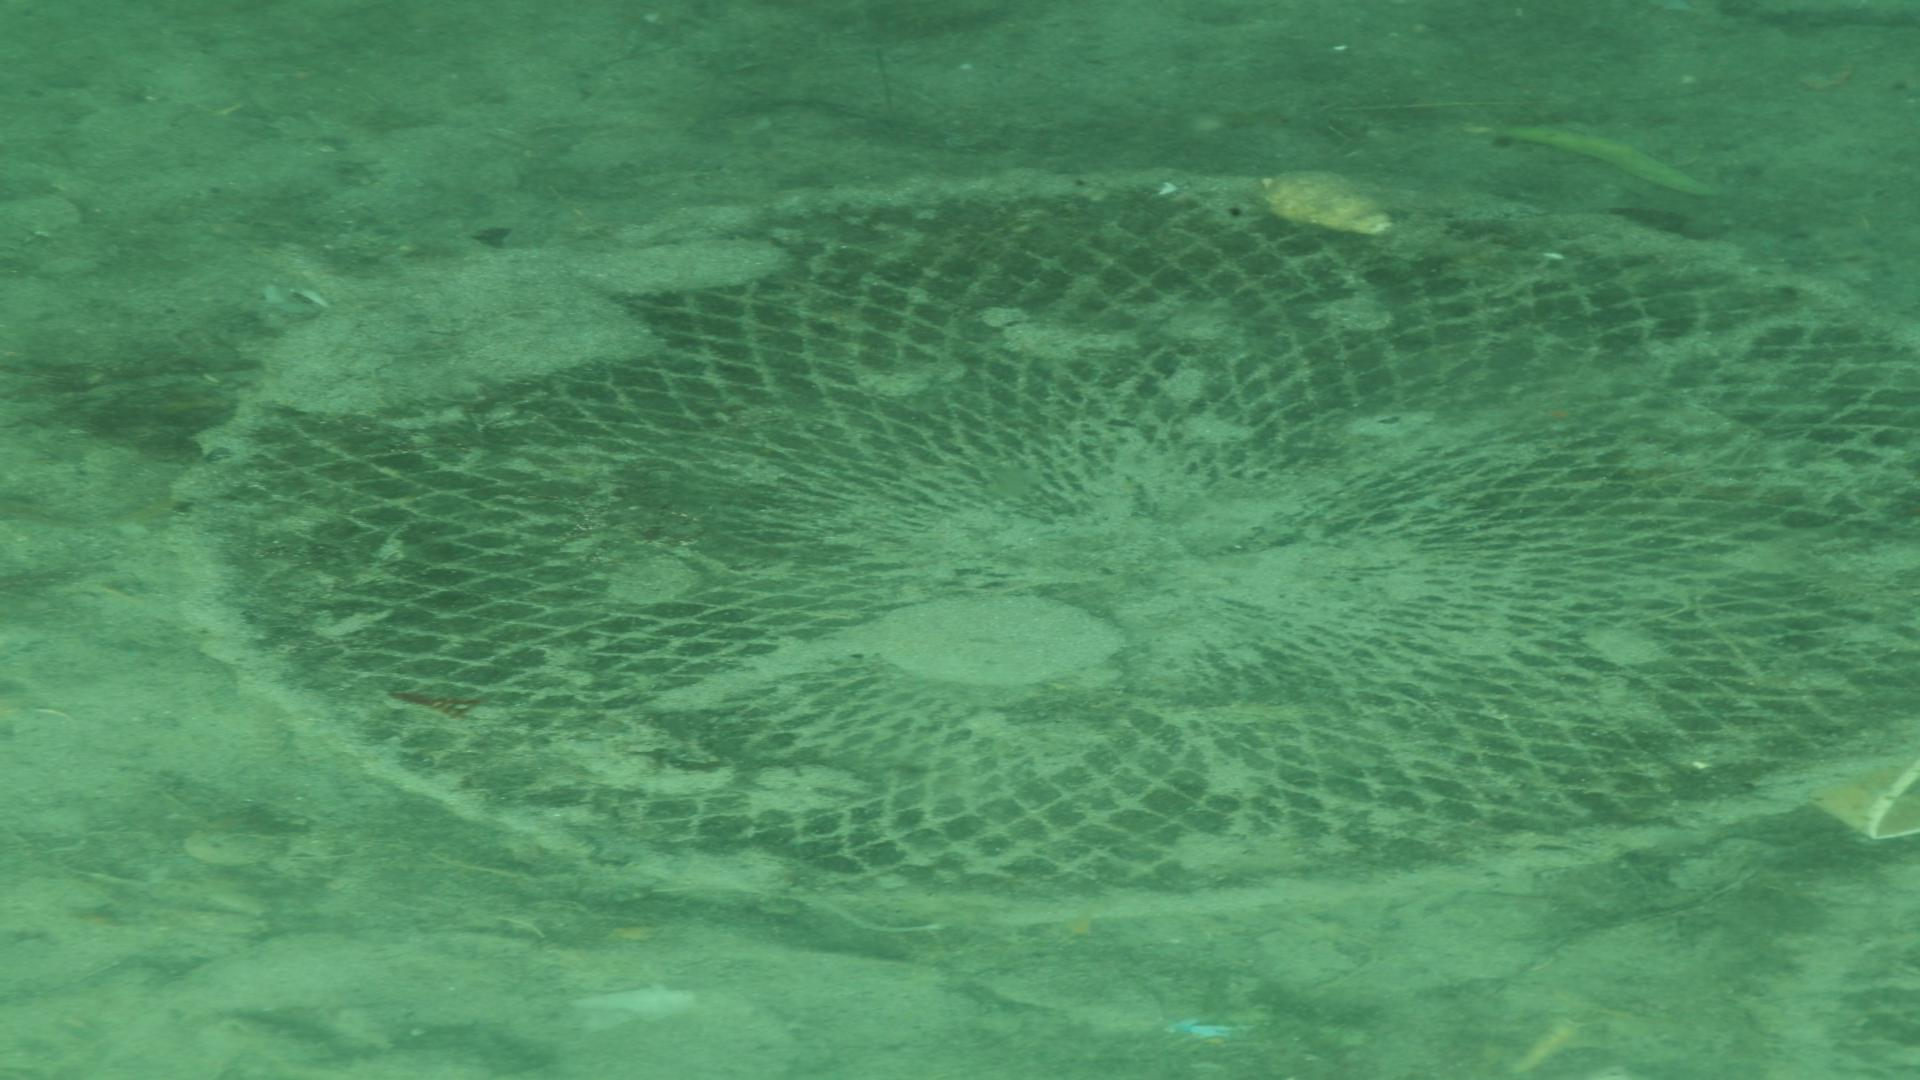circular fish trap: (177, 166, 1916, 922)
